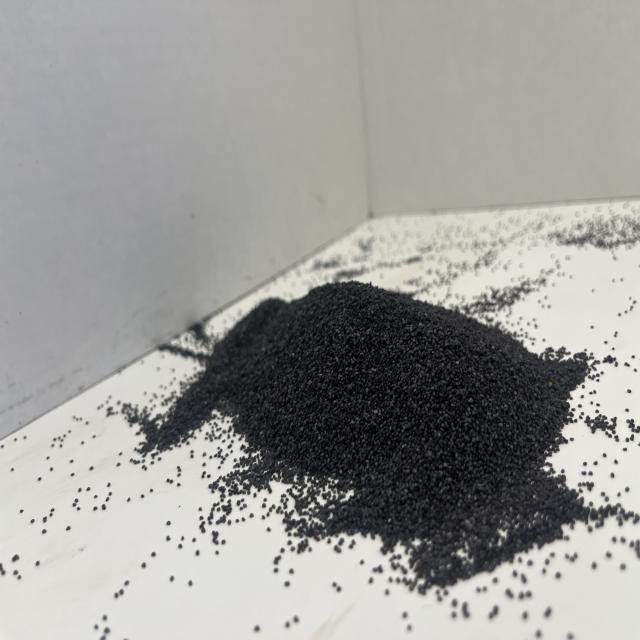Poppy Seeds: (170, 262, 624, 614)
